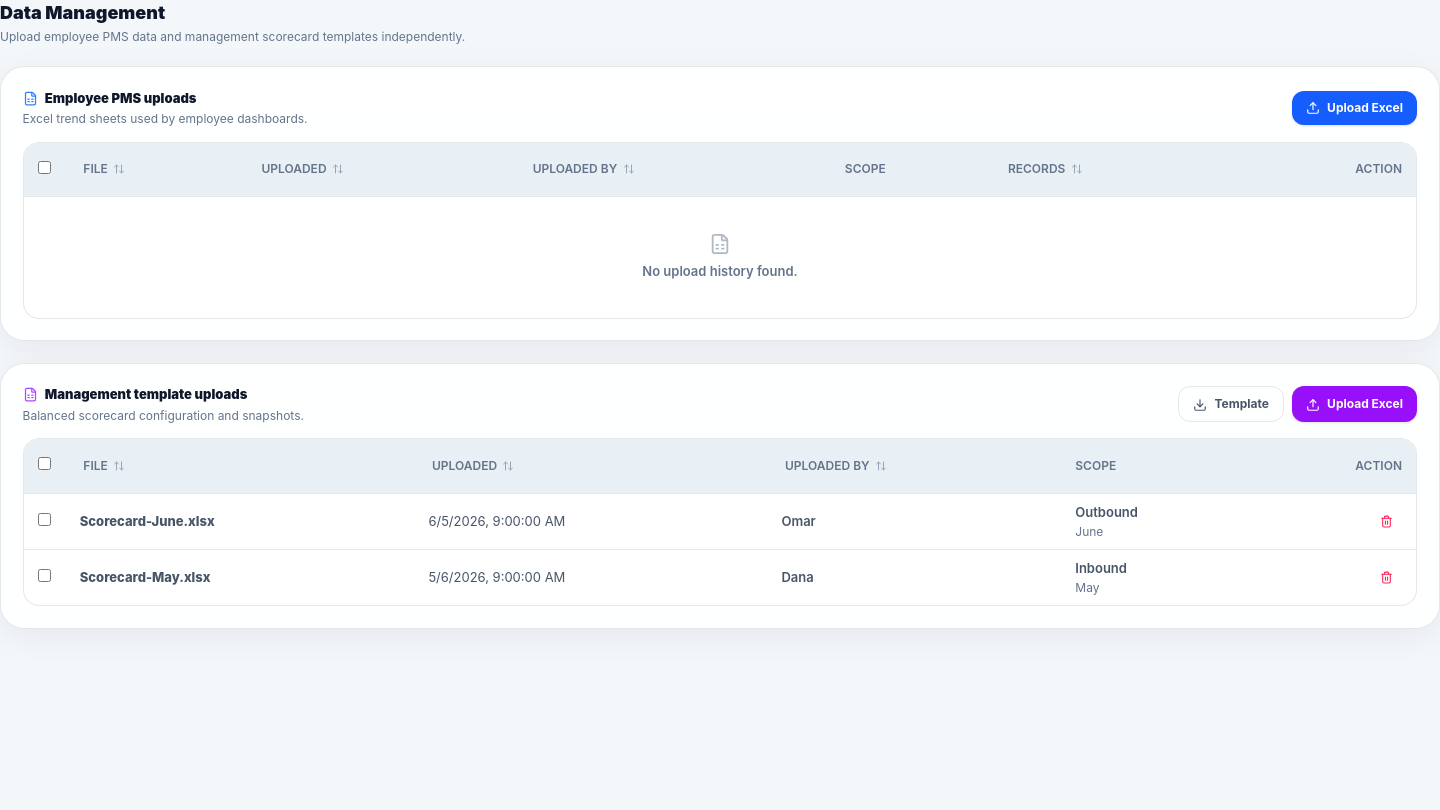
DataManagementPanel with failed_ids from the server › trusts failed_ids over the results: a batch named there is not removed
Click the 2nd checkbox named "Select all uploads" at (44, 464), box [38,457,51,470]
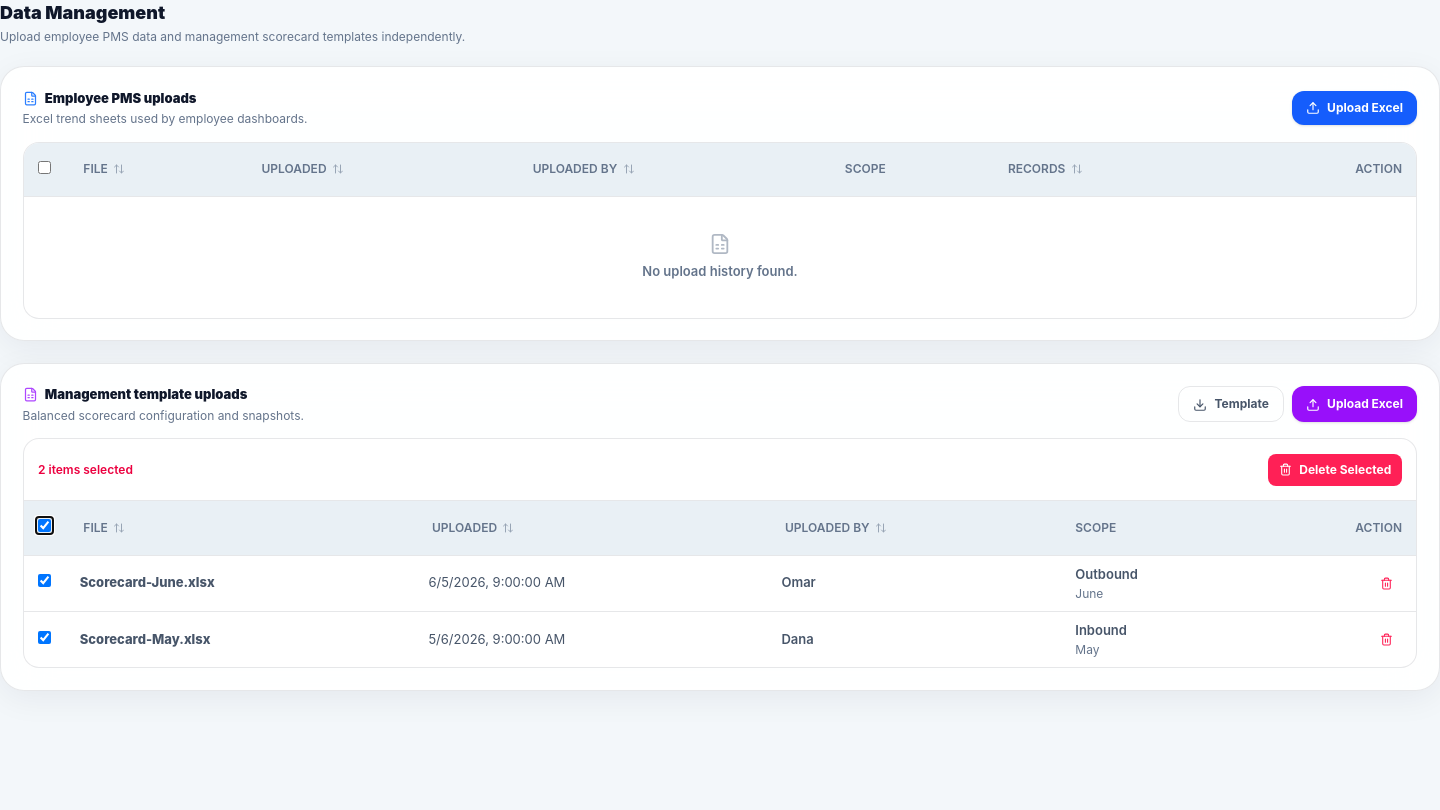
Click the button "Delete Selected" at (1335, 470), box [1268,454,1402,486]
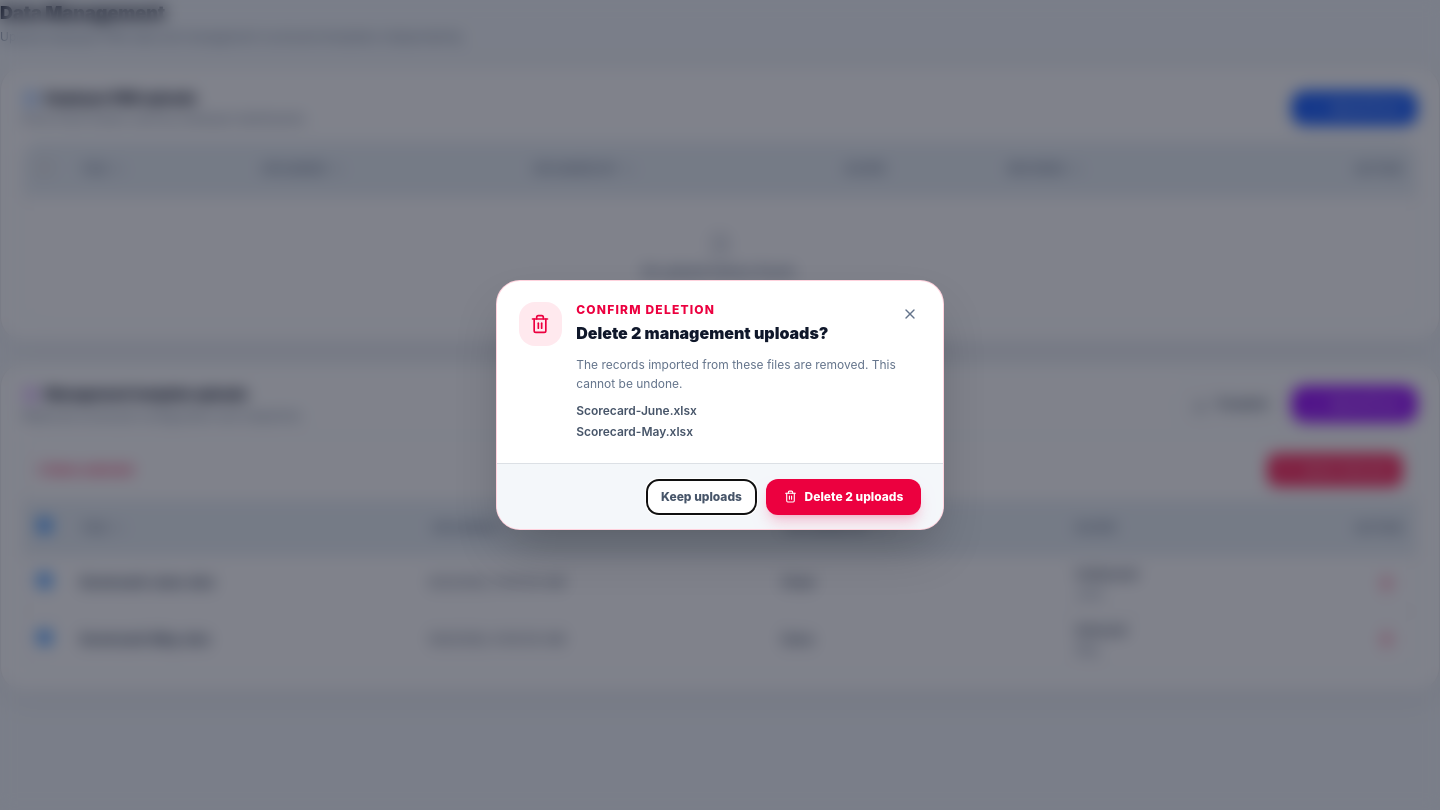
Click the button "Delete 2 uploads" at (844, 497), box [766,479,921,515]
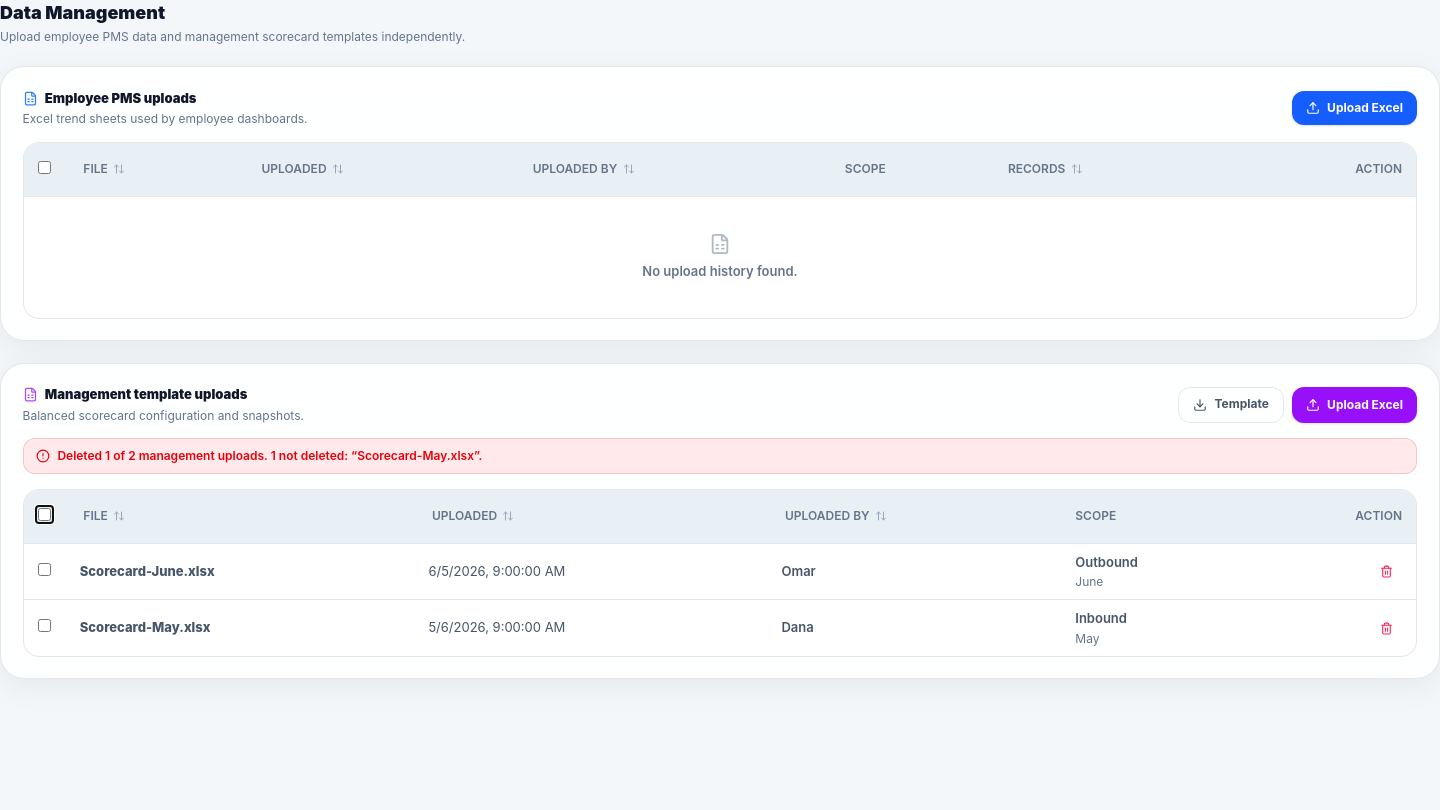
Check: the message reads "Deleted 1 of 2 management uploads. 1 not deleted: “Scorecard-May.xlsx”.", box [57,448,482,463]
